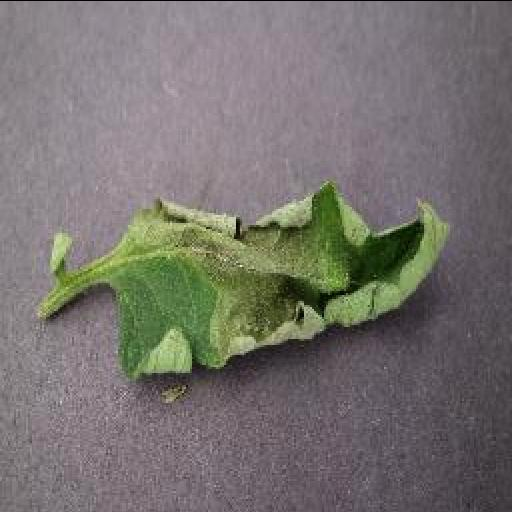disease_tomato: (106, 177, 454, 387)
